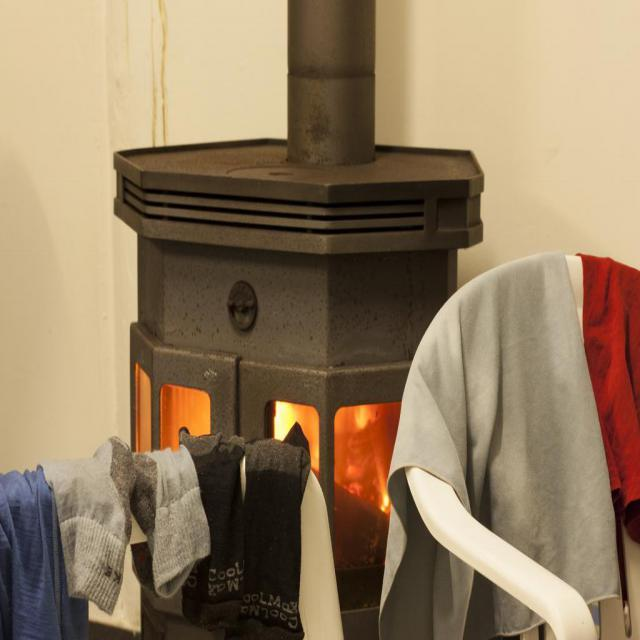Fire: (274, 389, 406, 507), (120, 354, 214, 451)
